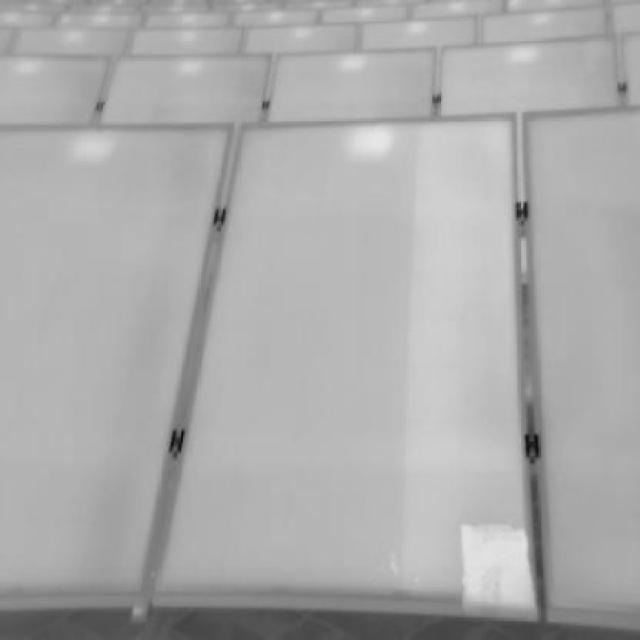hotspot: (451, 518, 537, 619)
